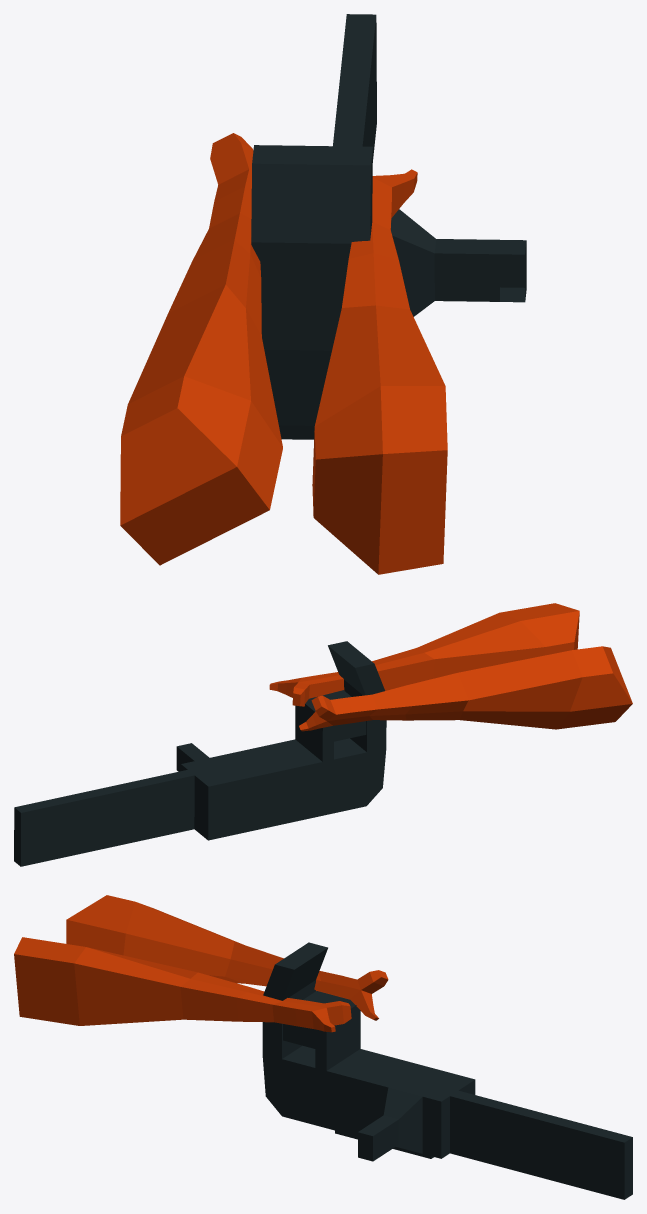
Rendered from arme_000045.obj.
3 renders of one model, top to bottom at view 1: azimuth 30°, elevation 25°; view 2: azimuth 150°, elevation 25°; view 3: azimuth 270°, elevation 25°, orthographic. The views are drawn at different scales.
Visible parts, largest first — view 1: Cube.048_Cube.024, Cube.046_Cube.010, Cube.047_Cube.022; view 2: Cube.046_Cube.010, Cube.048_Cube.024, Cube.047_Cube.022; view 3: Cube.046_Cube.010, Cube.047_Cube.022, Cube.048_Cube.024.
Boxes of the visible parts, bbox=[...] form: Cube.048_Cube.024: bbox=[120, 133, 282, 565]; Cube.046_Cube.010: bbox=[251, 14, 526, 439]; Cube.047_Cube.022: bbox=[312, 169, 447, 574]; Cube.046_Cube.010: bbox=[14, 641, 386, 866]; Cube.048_Cube.024: bbox=[299, 646, 632, 731]; Cube.047_Cube.022: bbox=[269, 603, 579, 706]; Cube.046_Cube.010: bbox=[262, 942, 632, 1199]; Cube.047_Cube.022: bbox=[14, 937, 351, 1032]; Cube.048_Cube.024: bbox=[66, 895, 388, 1020].
Bounding box in the file's own units: 1598 × 618 × 2164.
